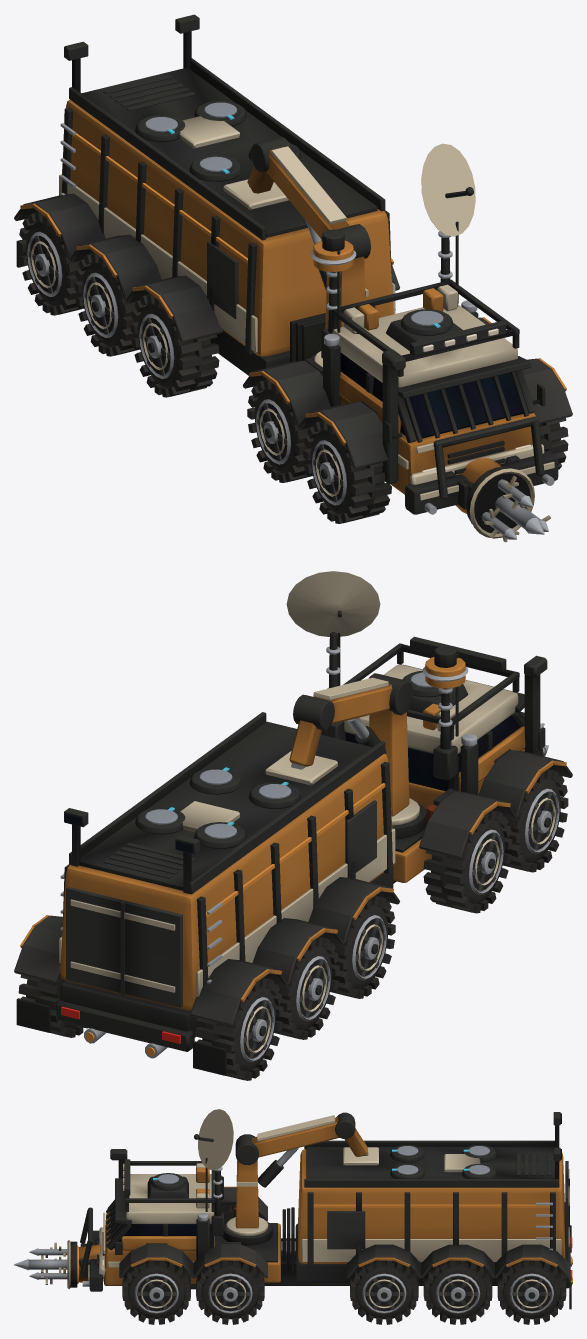
The model's file is ex_rover_11.glb.
3 views of the same model, one above another, from view 1: azimuth 30°, elevation 25°; view 2: azimuth 150°, elevation 25°; view 3: azimuth 270°, elevation 25° (orthographic). The views are drawn at different scales.
Visible parts, largest first — view 1: body, wheel_5, wheel_1, drill, wheel_7, wheel_9, wheel_3, wheel_0; view 2: body, wheel_3, wheel_9, wheel_1, wheel_5, wheel_7, wheel_8; view 3: body, wheel_6, wheel_8, wheel_4, wheel_0, wheel_2, drill.
Boxes of the visible parts, left/top/right/bottom form: body: left=14, top=14, right=572, bottom=514; wheel_5: left=130, top=294, right=219, bottom=397; wheel_1: left=303, top=420, right=391, bottom=523; drill: left=466, top=466, right=550, bottom=542; wheel_7: left=74, top=253, right=140, bottom=356; wheel_9: left=18, top=212, right=84, bottom=315; wheel_3: left=247, top=379, right=312, bottom=482; wheel_0: left=539, top=418, right=568, bottom=469; body: left=14, top=571, right=572, bottom=1075; wheel_3: left=423, top=810, right=512, bottom=913; wheel_9: left=195, top=977, right=283, bottom=1080; wheel_1: left=502, top=769, right=568, bottom=872; wheel_5: left=330, top=895, right=395, bottom=998; wheel_7: left=274, top=936, right=339, bottom=1039; wheel_8: left=18, top=974, right=87, bottom=1037; body: left=77, top=1109, right=572, bottom=1309; wheel_6: left=423, top=1260, right=492, bottom=1324; wheel_8: left=497, top=1260, right=566, bottom=1324; wheel_4: left=350, top=1260, right=418, bottom=1324; wheel_0: left=122, top=1260, right=190, bottom=1324; wheel_2: left=196, top=1260, right=264, bottom=1324; drill: left=14, top=1240, right=77, bottom=1288.
Bounding box in the file's own units: 7.14 × 8.97 × 23.21.
